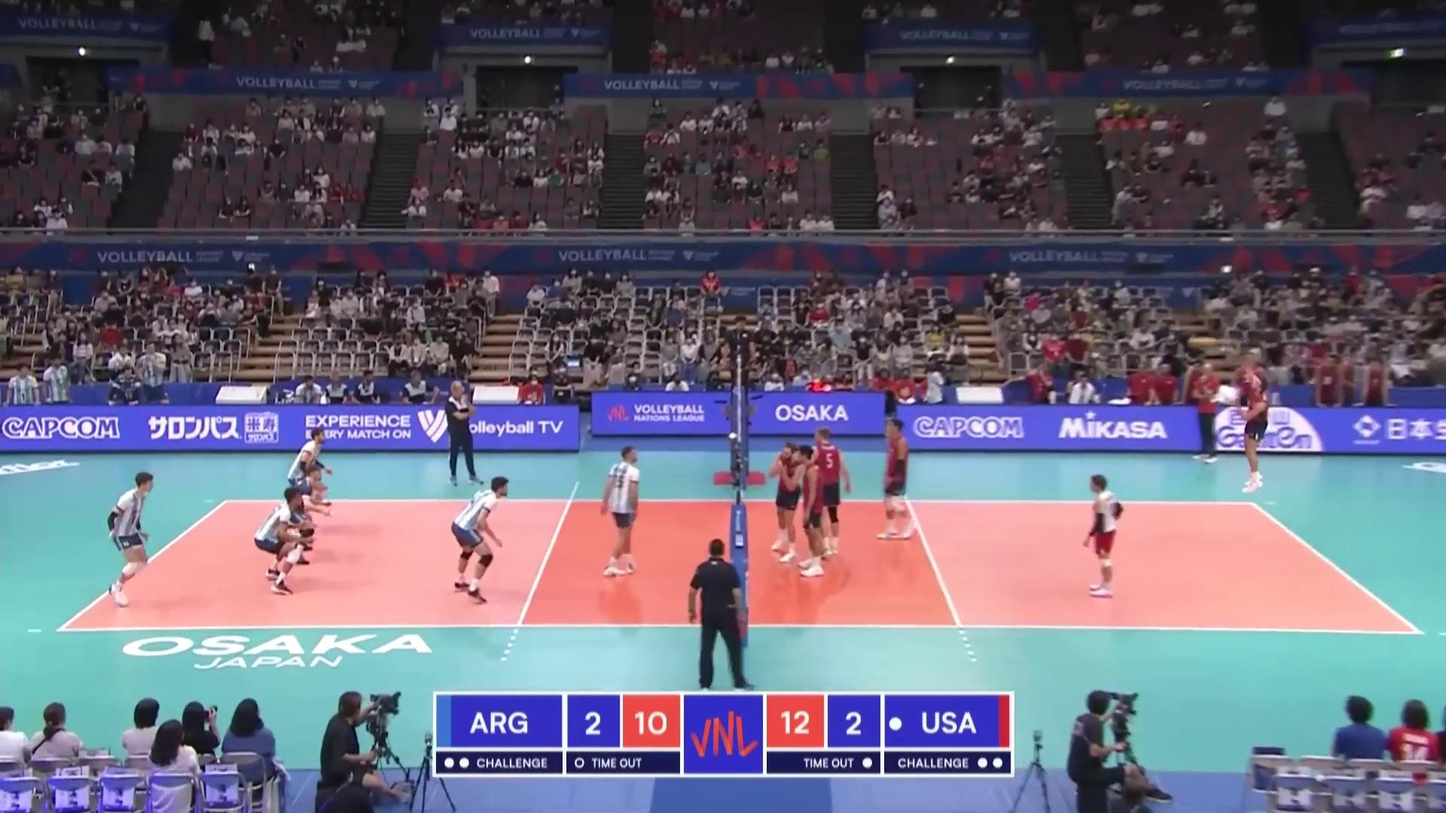player: (450, 476, 512, 602), (104, 472, 152, 607), (252, 488, 306, 594), (807, 428, 850, 559), (1081, 474, 1125, 599), (877, 416, 920, 543), (598, 447, 640, 577), (1234, 362, 1270, 492), (795, 445, 826, 578), (769, 443, 803, 564), (280, 467, 322, 563), (286, 429, 330, 512)
refree: (686, 538, 748, 690), (722, 316, 756, 408)
